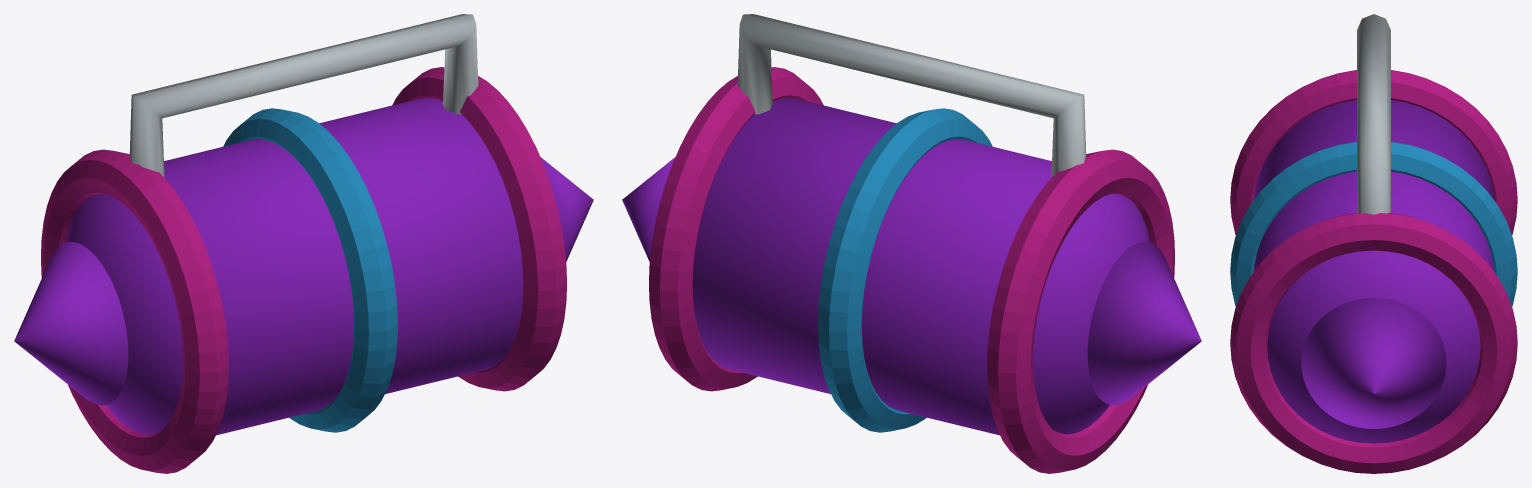
The picture shows the model from 3 angles, left to right: view 1: azimuth 30°, elevation 25°; view 2: azimuth 150°, elevation 25°; view 3: azimuth 270°, elevation 25°; orthographic projection. The views are drawn at different scales.
Visible parts, largest first — view 1: TI077 / horizontal sealed barrel, TI077 / broad coloured barrel collar, TI077 / broad coloured barrel collar.001, TI077 / broad coloured barrel collar.002, TI077 / arched carry handle, TI077 / sealed pointed end, TI077 / sealed pointed end.001; view 2: TI077 / horizontal sealed barrel, TI077 / broad coloured barrel collar, TI077 / broad coloured barrel collar.001, TI077 / broad coloured barrel collar.002, TI077 / arched carry handle, TI077 / sealed pointed end, TI077 / sealed pointed end.001; view 3: TI077 / horizontal sealed barrel, TI077 / broad coloured barrel collar.002, TI077 / sealed pointed end.001, TI077 / broad coloured barrel collar.001, TI077 / broad coloured barrel collar, TI077 / arched carry handle.
Boxes of the visible parts, box(x1,y1,x2,y2) form: TI077 / horizontal sealed barrel: box(66, 97, 523, 435); TI077 / broad coloured barrel collar: box(41, 149, 228, 473); TI077 / broad coloured barrel collar.001: box(223, 108, 397, 432); TI077 / broad coloured barrel collar.002: box(392, 67, 566, 391); TI077 / arched carry handle: box(129, 14, 478, 177); TI077 / sealed pointed end: box(14, 241, 128, 405); TI077 / sealed pointed end.001: box(540, 157, 593, 261); TI077 / horizontal sealed barrel: box(692, 97, 1149, 435); TI077 / broad coloured barrel collar: box(987, 149, 1174, 473); TI077 / broad coloured barrel collar.001: box(818, 108, 992, 432); TI077 / broad coloured barrel collar.002: box(649, 67, 823, 391); TI077 / arched carry handle: box(737, 14, 1086, 177); TI077 / sealed pointed end: box(1087, 241, 1201, 405); TI077 / sealed pointed end.001: box(622, 157, 675, 261); TI077 / horizontal sealed barrel: box(1253, 100, 1494, 443); TI077 / broad coloured barrel collar.002: box(1230, 213, 1517, 473); TI077 / sealed pointed end.001: box(1301, 297, 1446, 428); TI077 / broad coloured barrel collar.001: box(1230, 141, 1517, 306); TI077 / broad coloured barrel collar: box(1230, 70, 1517, 235); TI077 / arched carry handle: box(1357, 14, 1390, 214).
Size of the model in its own units: 2.4 by 1.44 by 1.19.
